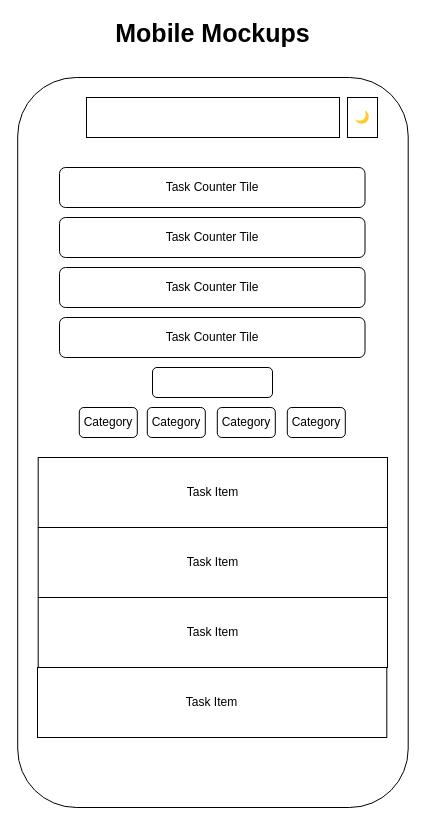
Some shapes in this 426 by 825 pixel diagram are drawn without their labels. Here are the shapes that lost their labels. From the top down, the centre of each, then its label:
At pixel 213 117: "Title".
At pixel 212 382: "Add New +".
